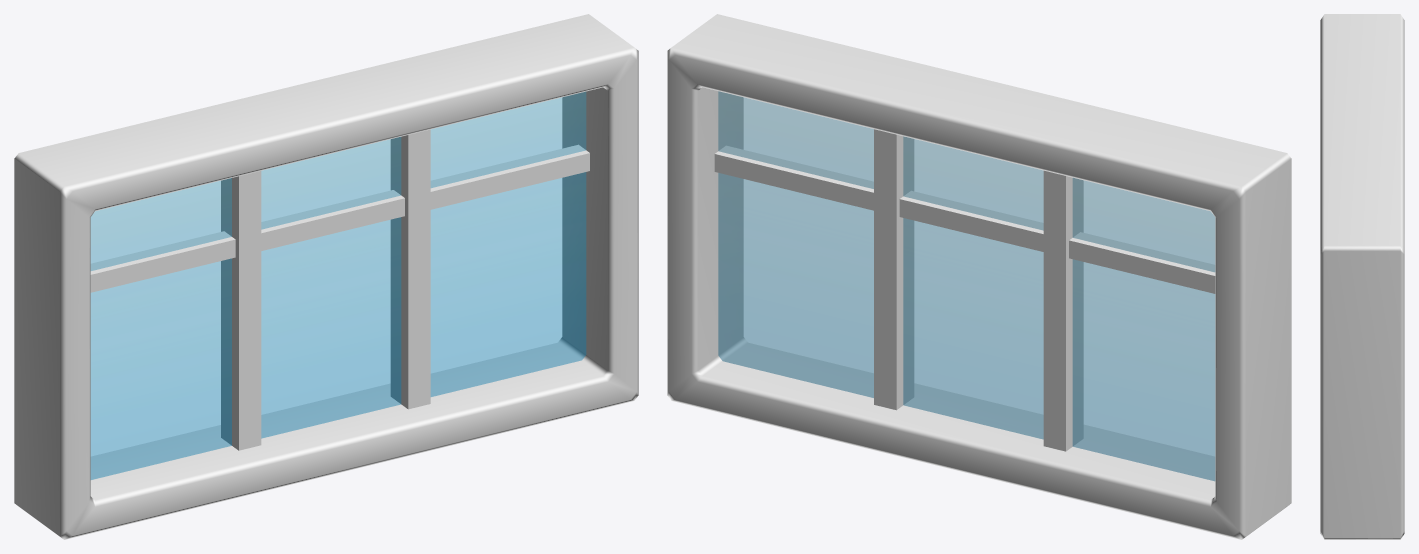
Rendered from Window_White_03.glb.
3 views of the same model, side by side, from view 1: azimuth 30°, elevation 25°; view 2: azimuth 150°, elevation 25°; view 3: azimuth 270°, elevation 25° (orthographic). The views are drawn at different scales.
Parts seen in each view (by area): view 1: Window_White_03; view 2: Window_White_03; view 3: Window_White_03.
Part boxes in pixels (<box>): Window_White_03: <box>14,14,638,539</box>; Window_White_03: <box>667,14,1291,539</box>; Window_White_03: <box>1320,14,1404,539</box>.
Bounding box in the file's own units: 2.64 × 1.54 × 0.4.
2 materials, 2 textured.
